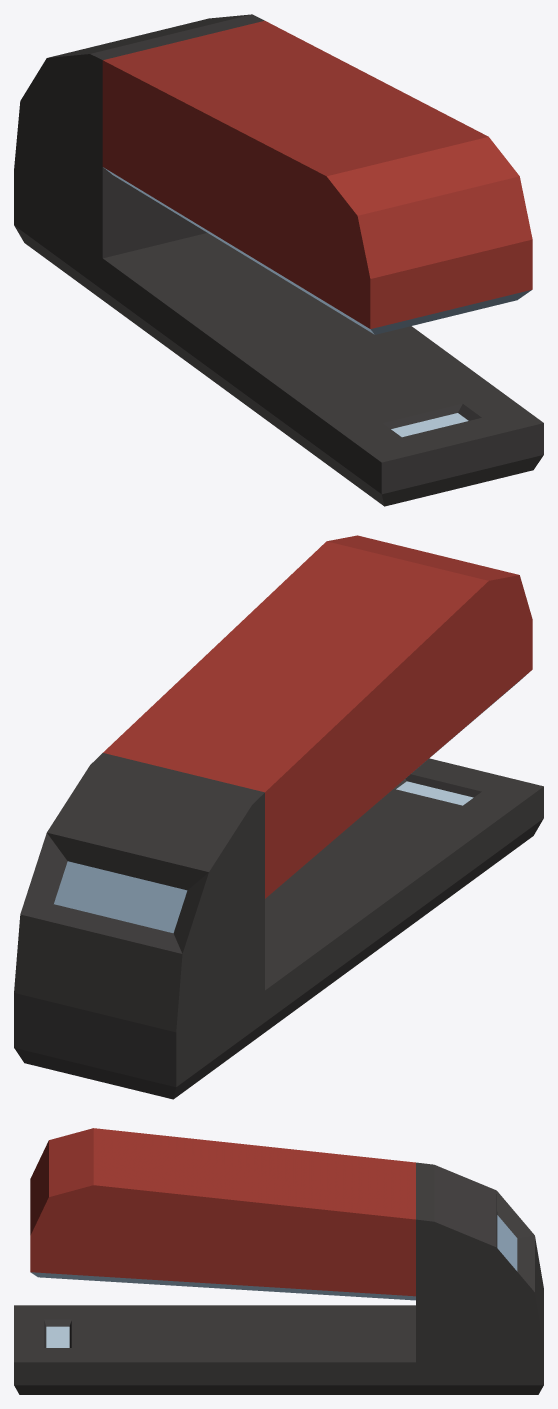
Rendered from FurnAcc_Stapler.fbx.
The picture shows the model from 3 angles, top to bottom: view 1: azimuth 30°, elevation 25°; view 2: azimuth 150°, elevation 25°; view 3: azimuth 270°, elevation 25°; orthographic projection. The views are drawn at different scales.
Visible parts, largest first — view 1: FurnAcc_Stapler; view 2: FurnAcc_Stapler; view 3: FurnAcc_Stapler.
Boxes of the visible parts, box(x1,y1,x2,y2) form: FurnAcc_Stapler: box(14, 14, 543, 506); FurnAcc_Stapler: box(14, 535, 543, 1099); FurnAcc_Stapler: box(14, 1128, 543, 1394).
Bounding box in the file's own units: 5.69 × 10.09 × 22.35.
